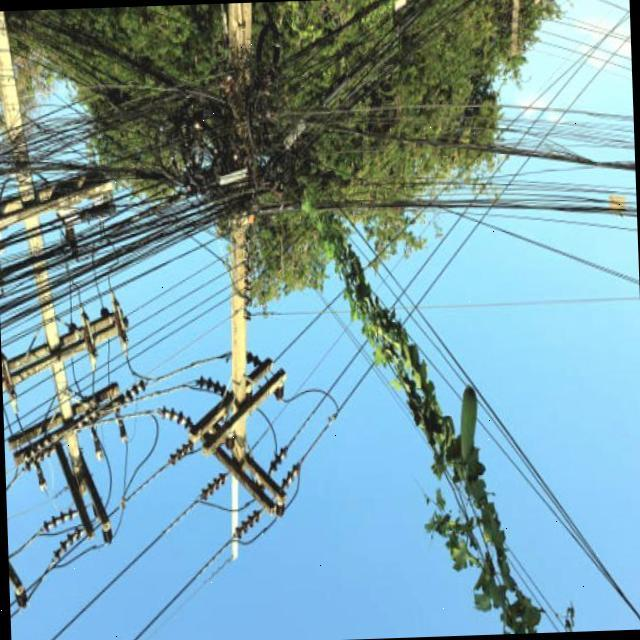critical vegetation: (188, 8, 305, 554), (192, 95, 335, 306)
